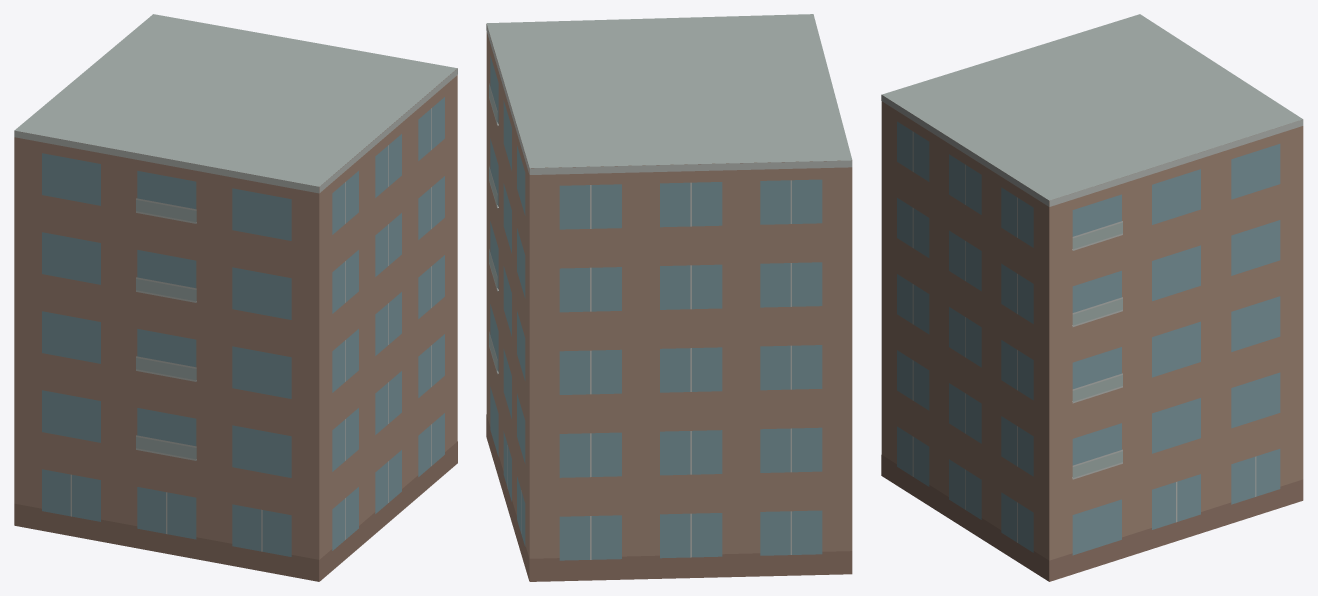
Rendered from survey-upis-32868706.glb.
The picture shows the model from 3 angles, left to right: view 1: azimuth 30°, elevation 25°; view 2: azimuth 150°, elevation 25°; view 3: azimuth 270°, elevation 25°; orthographic projection. The views are drawn at different scales.
Parts seen in each view (by area): view 1: survey-upis-32868706.tmp; view 2: survey-upis-32868706.tmp; view 3: survey-upis-32868706.tmp.
Part boxes in pixels (x1,y1,x2,y2): survey-upis-32868706.tmp: [14, 14, 457, 581]; survey-upis-32868706.tmp: [486, 14, 852, 581]; survey-upis-32868706.tmp: [881, 14, 1303, 581].
Size of the model in its own units: 15.24 by 14.5 by 14.55.
